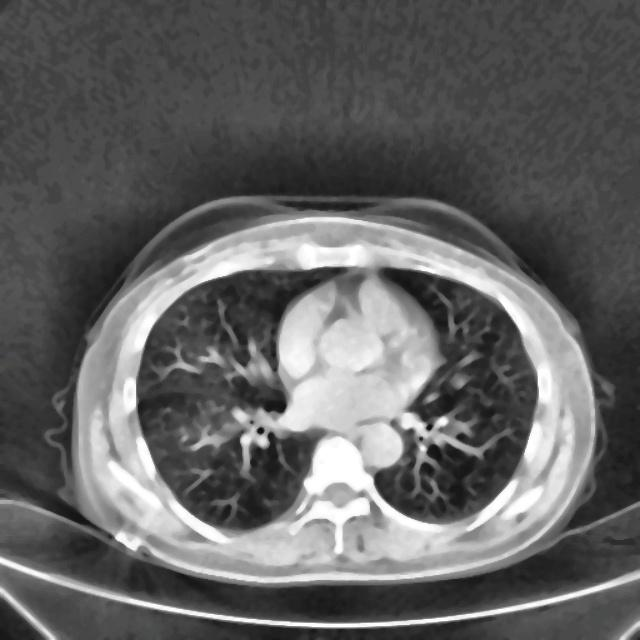covid: (52, 193, 610, 586)
